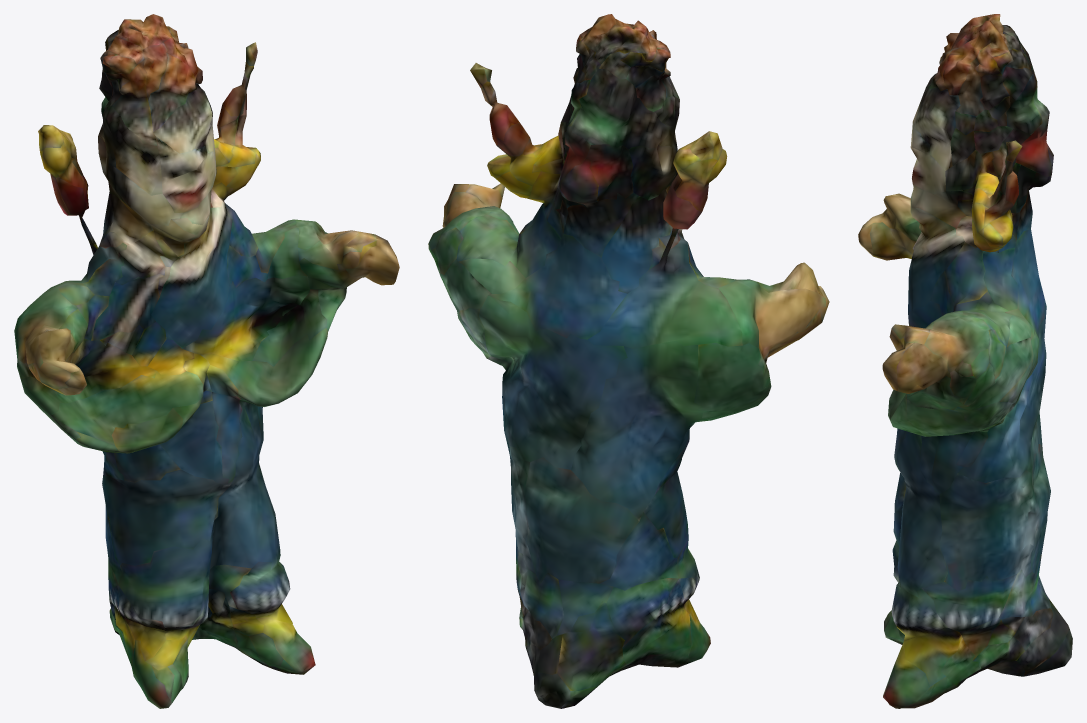
The model's file is hall.glb.
3 renders of one model, left to right at view 1: azimuth 30°, elevation 25°; view 2: azimuth 150°, elevation 25°; view 3: azimuth 270°, elevation 25°, orthographic. The views are drawn at different scales.
Size of the model in its own units: 0.5501 by 0.9419 by 0.2878.
Materials: 1 (1 with a texture image).
